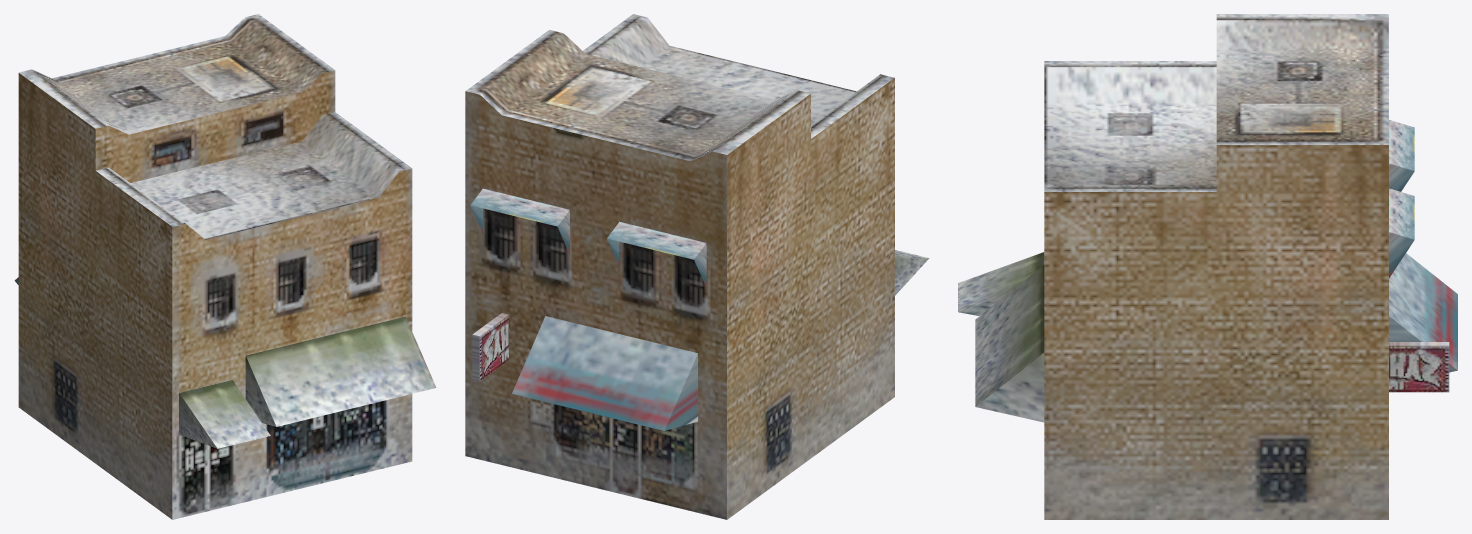
Rendered from Civilian - Commercial Building - Stan Small Retail 01 - Snow - CBTsmlrtl1_S.glb.
3 views of the same model, side by side, from view 1: azimuth 30°, elevation 25°; view 2: azimuth 150°, elevation 25°; view 3: azimuth 270°, elevation 25° (orthographic). The views are drawn at different scales.
Parts seen in each view (by area): view 1: CBTSMLRTL1_S; view 2: CBTSMLRTL1_S; view 3: CBTSMLRTL1_S.
Boxes of the visible parts, <box> form: CBTSMLRTL1_S: <box>14,14,436,519</box>; CBTSMLRTL1_S: <box>465,14,929,519</box>; CBTSMLRTL1_S: <box>958,14,1457,519</box>.
Bounding box in the file's own units: 33.83 × 45.11 × 54.5.
Materials: 1 (1 with a texture image).
